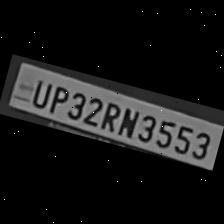2: (80, 92, 104, 126)
3: (134, 109, 160, 145), (188, 125, 214, 161), (63, 86, 87, 120)
5: (170, 119, 196, 155), (153, 114, 178, 149)
N: (114, 103, 141, 139)
P: (44, 80, 70, 114)
R: (97, 97, 122, 132)
U: (26, 75, 52, 108)
